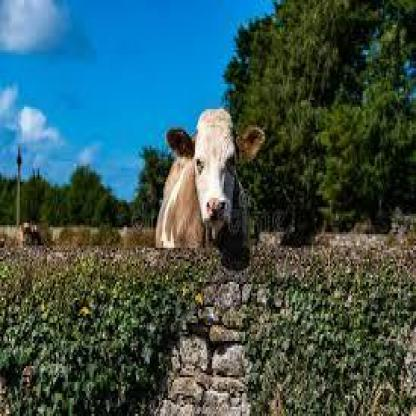cow: (155, 110, 266, 251)
